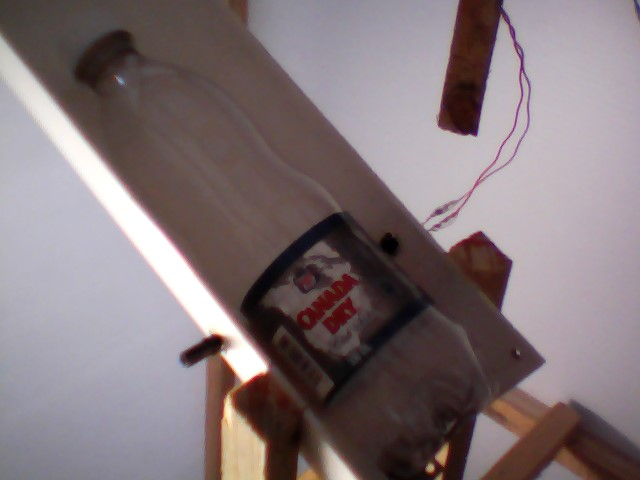plastico: (53, 7, 501, 480)
